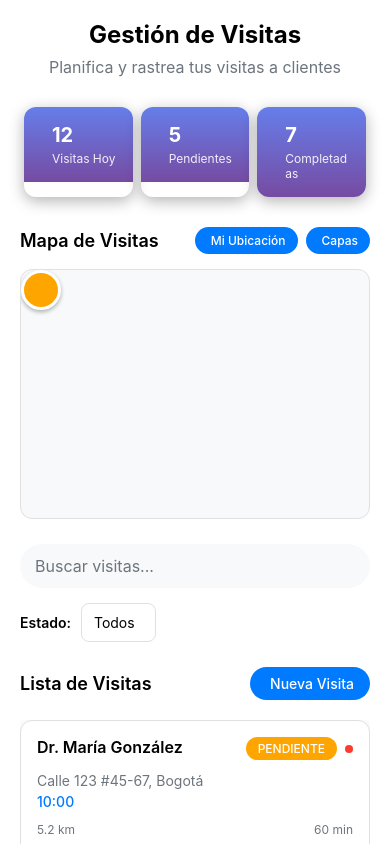
Scenario: VisitsScreen › New Visit Modal › opens client picker when client selector is pressed
Abrir el modal
Click the text "Nueva Visita" at (312, 684), box [270, 675, 354, 692]
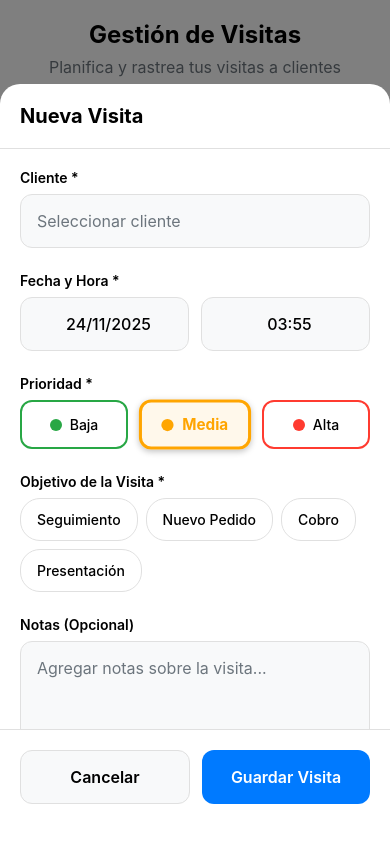
Presionar el selector de cliente
Click the text "Seleccionar cliente" at (109, 221), box [37, 211, 181, 231]
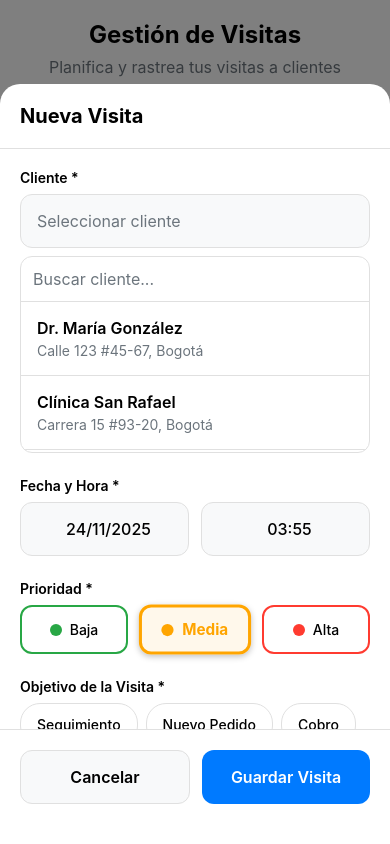
expect the field with placeholder "Buscar cliente..." is shown: met, box [21, 257, 369, 302]
